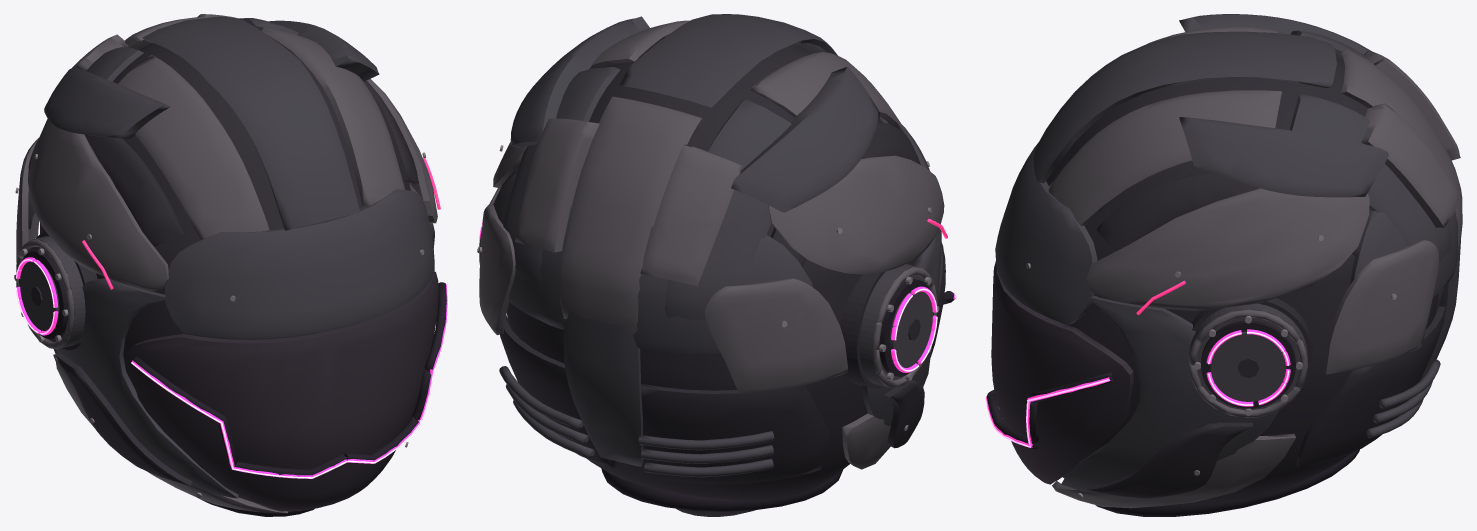
The model's file is helmet_ghju.glb.
3 renders of one model, left to right at view 1: azimuth 30°, elevation 25°; view 2: azimuth 150°, elevation 25°; view 3: azimuth 270°, elevation 25°, orthographic. The views are drawn at different scales.
Parts seen in each view (by area): view 1: coque; view 2: coque; view 3: coque.
Boxes of the visible parts, bbox=[...] form: coque: bbox=[14, 14, 448, 516]; coque: bbox=[477, 14, 956, 516]; coque: bbox=[985, 14, 1462, 516].
Size of the model in its own units: 0.308 by 0.3263 by 0.3183.
